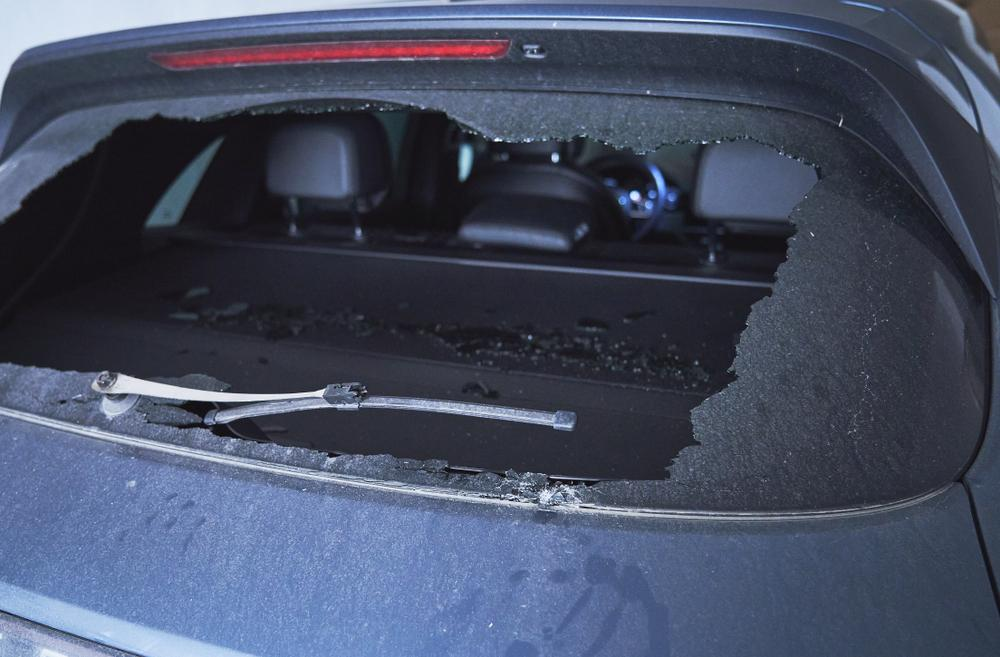glass shatter: (0, 91, 994, 514)
